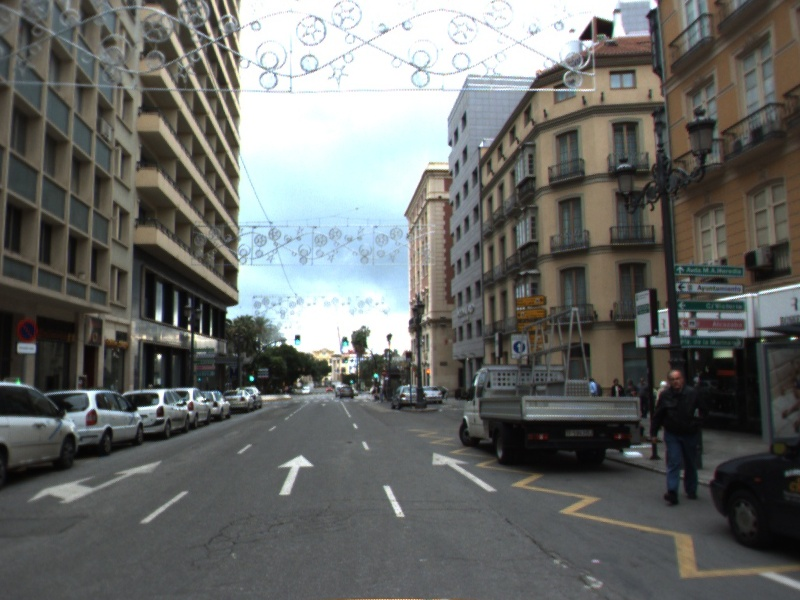STRAIGHT: (431, 450, 501, 494), (275, 452, 317, 497)
STRAIGHT_LEFT: (24, 458, 164, 506)
